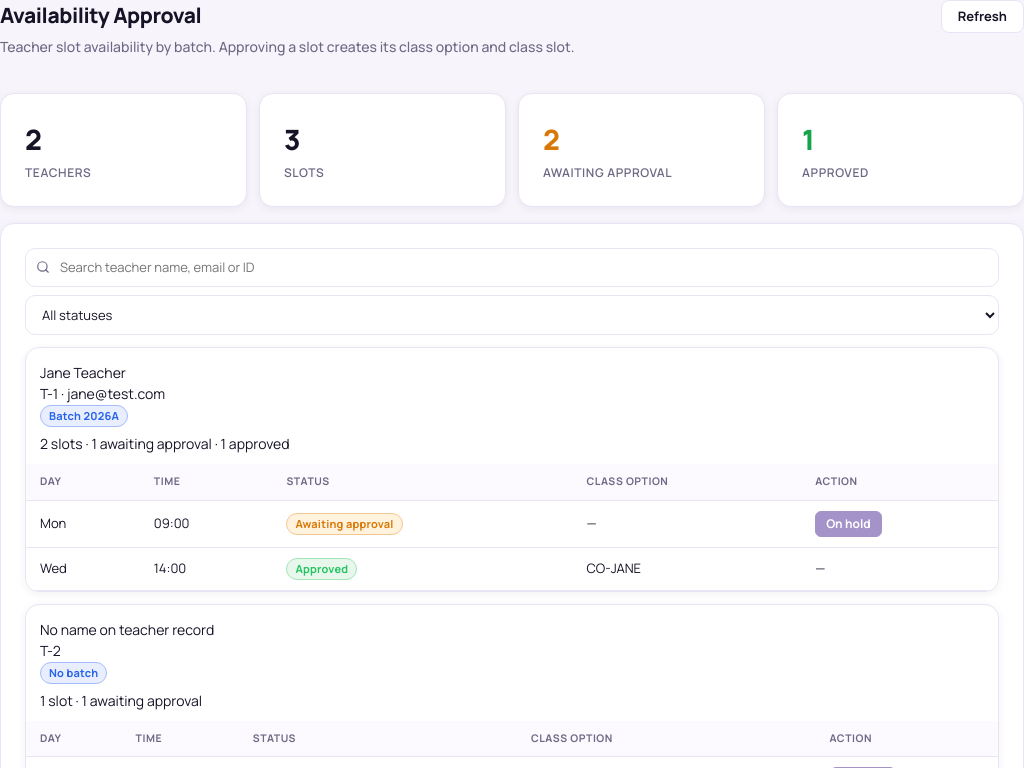
AvailabilityApprovalPage slot display › shows the no-match state when filters exclude every slot
This screenshot has width=1024, height=768.
Expected: the text "Batch 2026A" is shown, [40,405,128,427]
Step 1. Type "nobody-here" into the field with placeholder "Search teacher name, email or ID" → (512, 267), box [25,248,999,287]
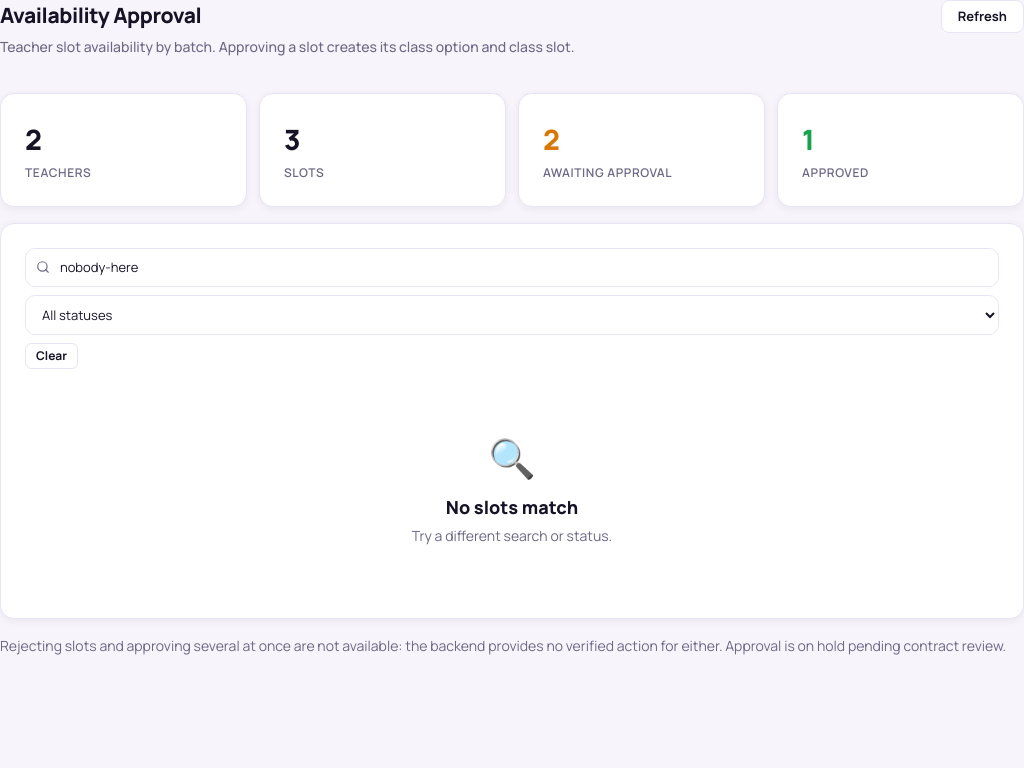
Now the text "No slots match" is shown, box [446,495,578,519]
